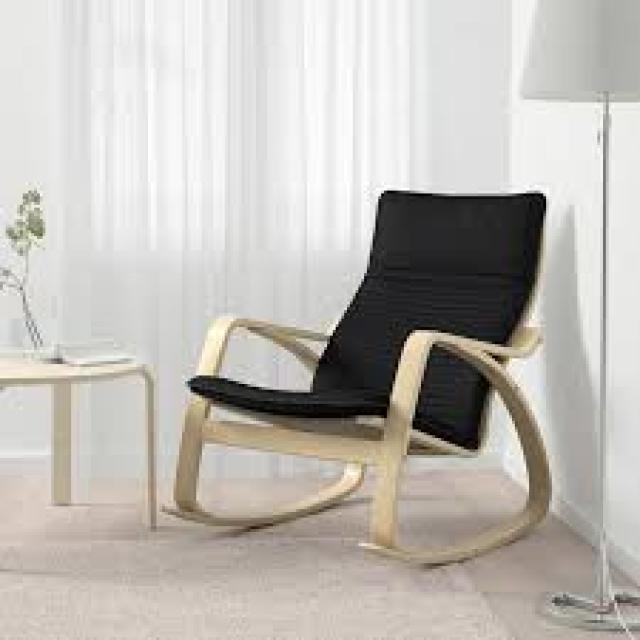chair: (130, 79, 622, 640)
